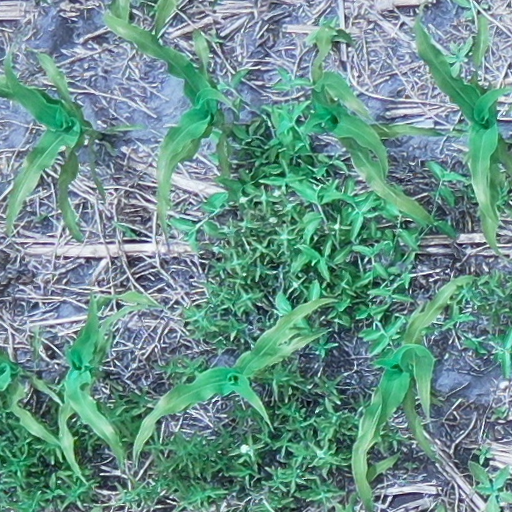planta: (133, 295, 341, 465), (103, 12, 239, 235), (302, 19, 441, 228), (57, 289, 152, 486), (2, 49, 91, 243)
